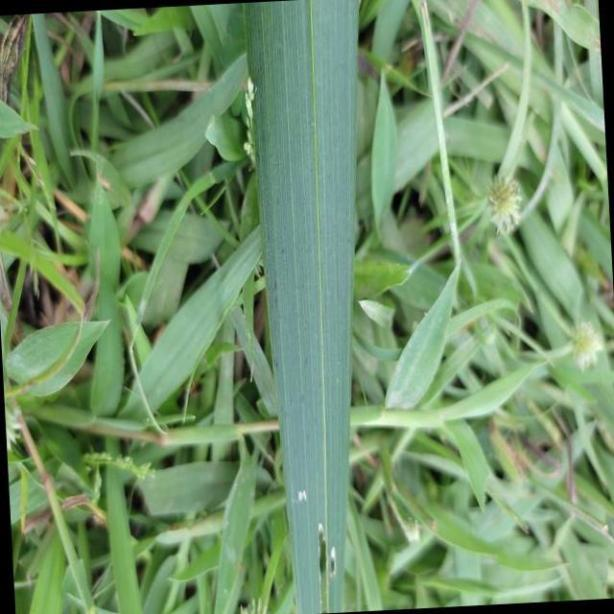Boron: (249, 1, 366, 614)
